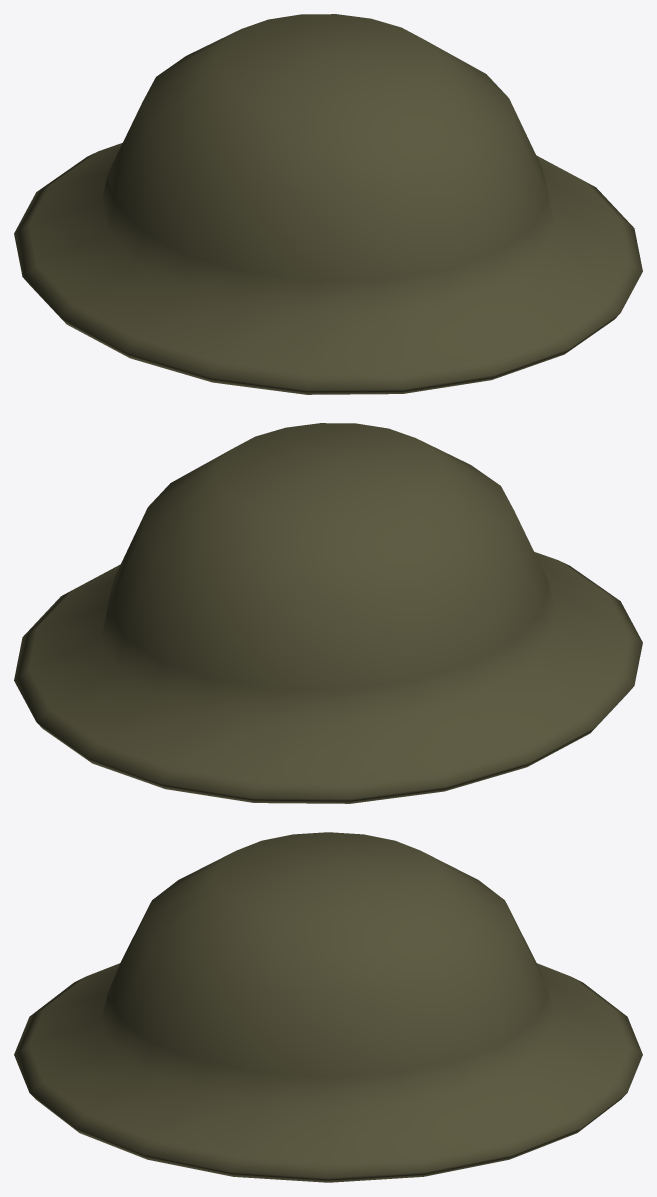
File: tpl_hall_elmetti_brodie.glb
The picture shows the model from 3 angles, top to bottom: view 1: azimuth 30°, elevation 25°; view 2: azimuth 150°, elevation 25°; view 3: azimuth 270°, elevation 25°; orthographic projection. The views are drawn at different scales.
Parts seen in each view (by area): view 1: tpl_hall_elmetti_brodie; view 2: tpl_hall_elmetti_brodie; view 3: tpl_hall_elmetti_brodie.
Boxes of the visible parts, box(x1,y1,x2,y2) form: tpl_hall_elmetti_brodie: box(14, 14, 642, 394); tpl_hall_elmetti_brodie: box(14, 423, 642, 803); tpl_hall_elmetti_brodie: box(14, 832, 642, 1182).
Bounding box in the file's own units: 0.332 × 0.1228 × 0.3586.
